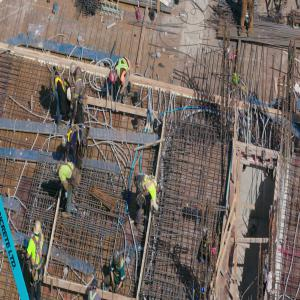blue: (71, 63, 78, 77), (54, 165, 60, 178), (63, 137, 69, 149)
red: (111, 71, 118, 85)
white: (35, 221, 42, 238), (67, 89, 73, 103)
